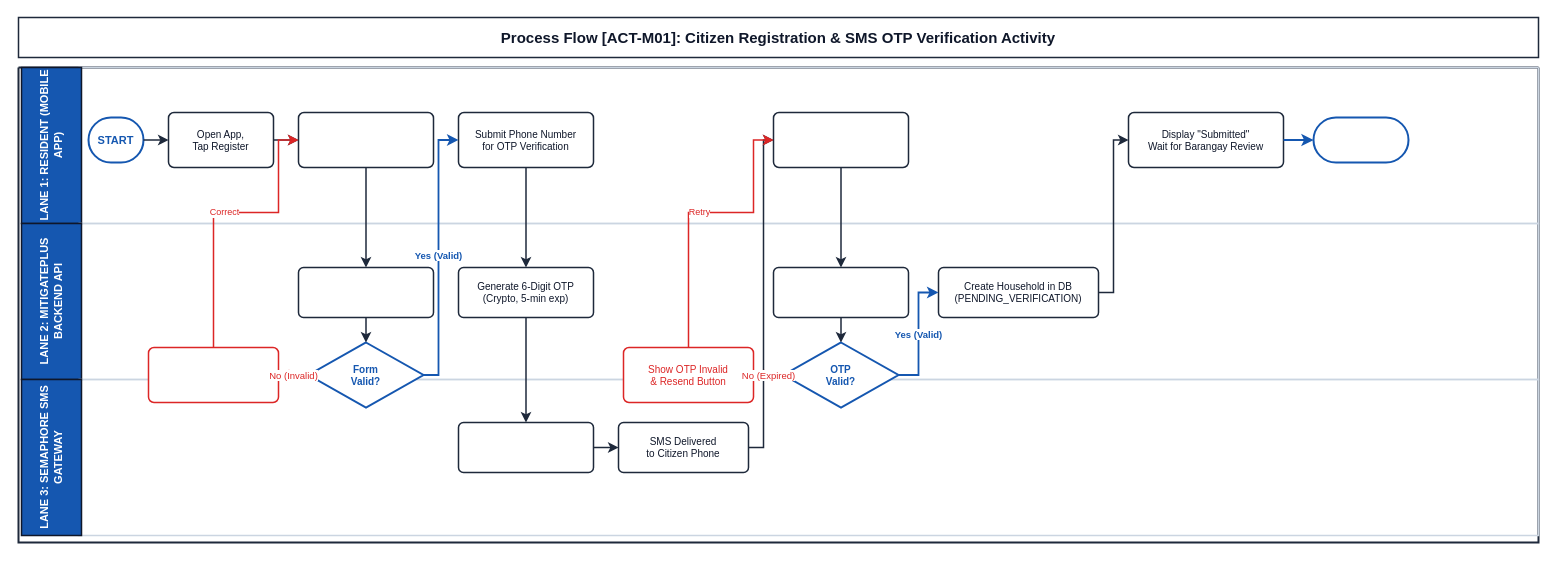
The diagram is 1556 pixels wide and 561 high, and some of its shapes have lost their labels. The shapes that lost their labels are listed below. From the top down, each one's centre as x and y in pixels, then its label:
At pixel 365 139: "Fill Household Form & Attach Valid ID".
At pixel 840 139: "Enter 6-Digit OTP Code in Mobile App".
At pixel 1360 139: "END (Pending)".
At pixel 365 292: "Validate Form Fields & Barangay Scope".
At pixel 840 292: "Verify OTP Match & Expiration".
At pixel 213 374: "Show Validation Error & Highlight Field".
At pixel 525 447: "Dispatch OTP via Semaphore SMS API".
